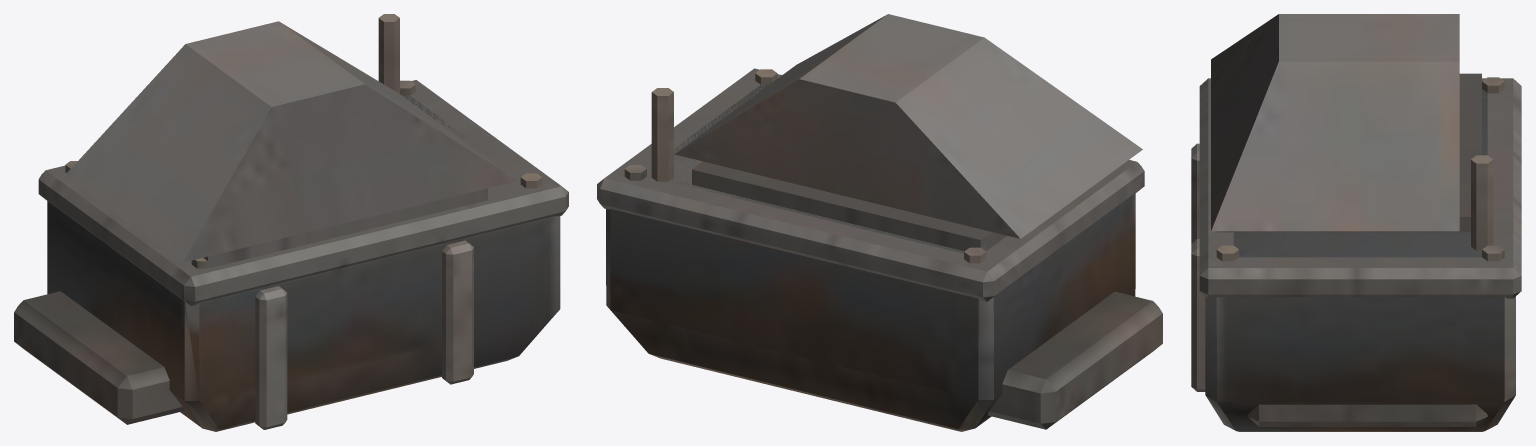
File: small-lamp.glb
3 renders of one model, left to right at view 1: azimuth 30°, elevation 25°; view 2: azimuth 150°, elevation 25°; view 3: azimuth 270°, elevation 25°, orthographic. The views are drawn at different scales.
Parts seen in each view (by area): view 1: body; view 2: body; view 3: body.
Part boxes in pixels (x1=…): body: x1=14, y1=14, x2=568, y2=431; body: x1=597, y1=14, x2=1162, y2=431; body: x1=1191, y1=14, x2=1521, y2=431.
Bounding box in the file's own units: 0.915 × 0.6 × 0.585.
1 material, 1 textured.
